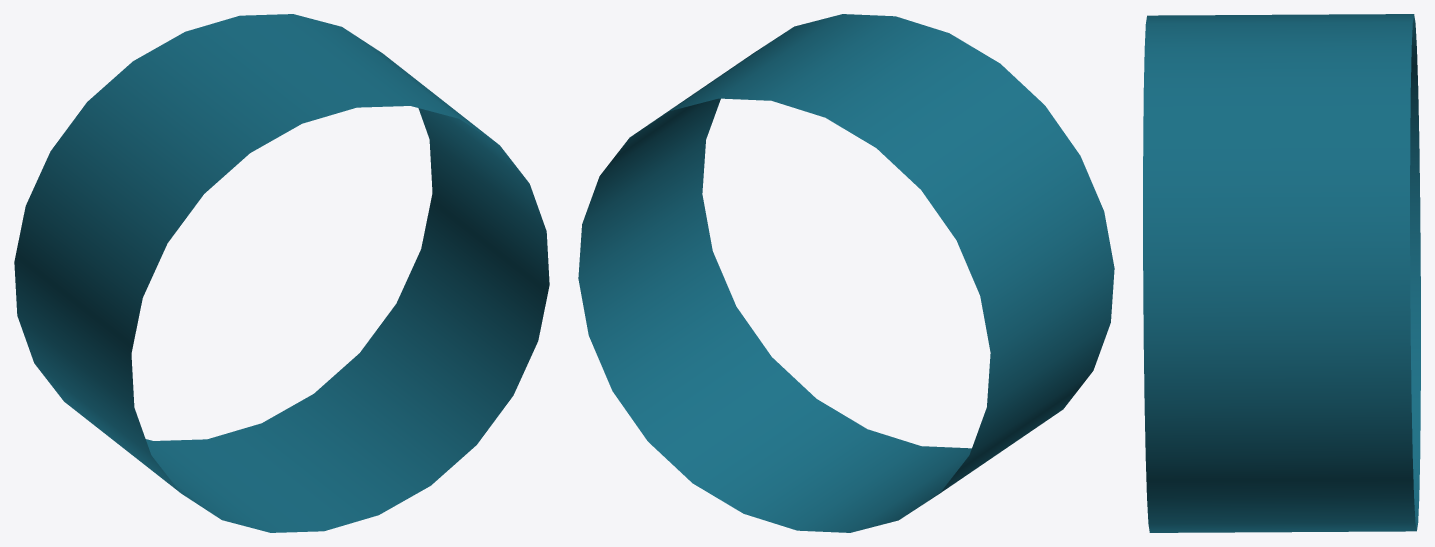
The model's file is original-12.obj.
The picture shows the model from 3 angles, left to right: view 1: azimuth 30°, elevation 25°; view 2: azimuth 150°, elevation 25°; view 3: azimuth 270°, elevation 25°; orthographic projection. The views are drawn at different scales.
Parts seen in each view (by area): view 1: #ID64; view 2: #ID64; view 3: #ID64.
Boxes of the visible parts, x1=… form: #ID64: x1=14, y1=14, x2=549, y2=532; #ID64: x1=578, y1=14, x2=1114, y2=532; #ID64: x1=1143, y1=14, x2=1420, y2=532.
Size of the model in its own units: 0.6741 by 0.6507 by 0.3503.
